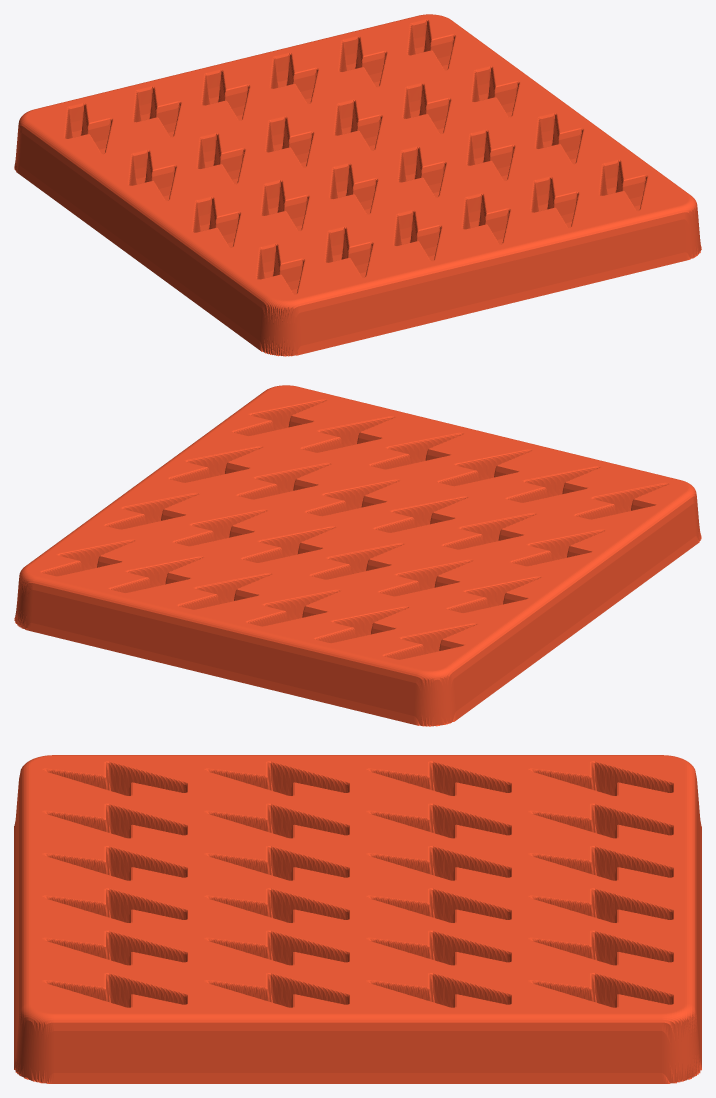
Rendered from mold.glb.
3 views of the same model, one above another, from view 1: azimuth 30°, elevation 25°; view 2: azimuth 150°, elevation 25°; view 3: azimuth 270°, elevation 25° (orthographic). The views are drawn at different scales.
Visible parts, largest first — view 1: geometry_0; view 2: geometry_0; view 3: geometry_0.
Boxes of the visible parts, x1,y1,x2,y2 form: geometry_0: (14,14,701,356); geometry_0: (14,385,701,726); geometry_0: (14,755,701,1083).
Bounding box in the file's own units: 0.1455 × 0.0159 × 0.1561.
